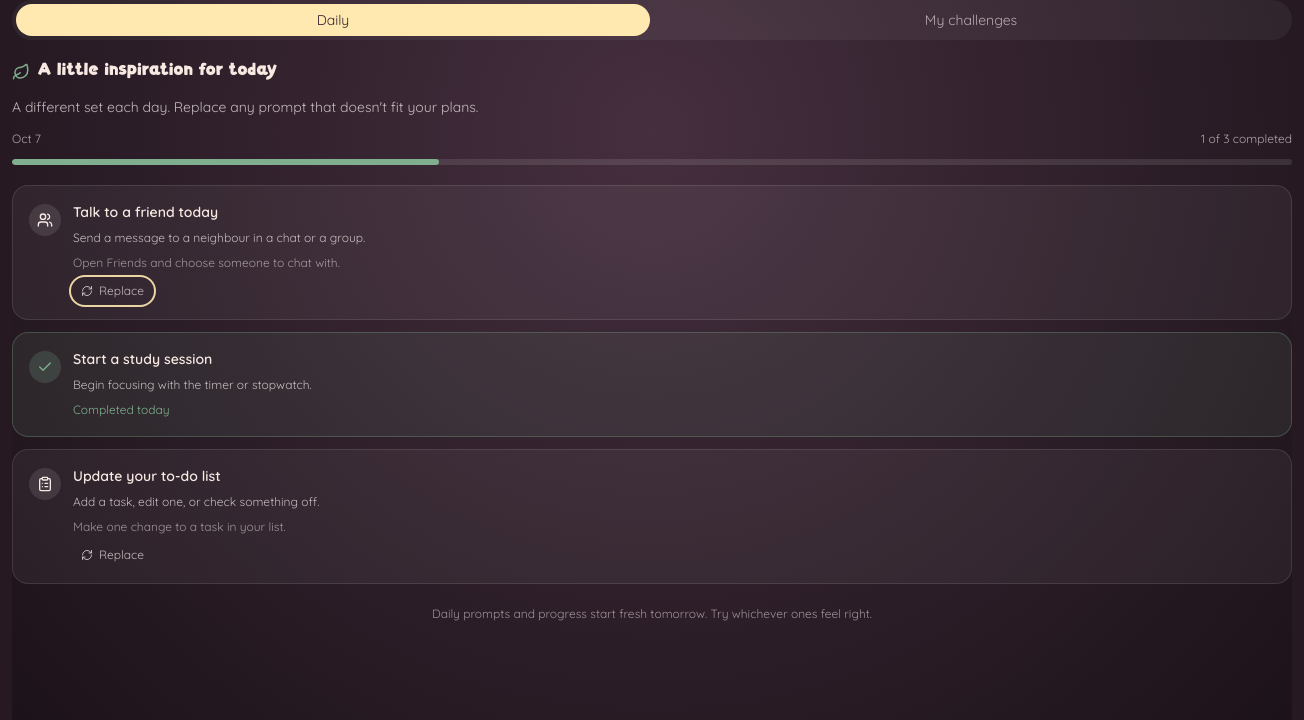
Test: replaces the selected unwanted daily prompt without touching other progress
Click the button with aria-label "Replace Talk to a friend today" at (113, 291), box [73, 279, 152, 303]
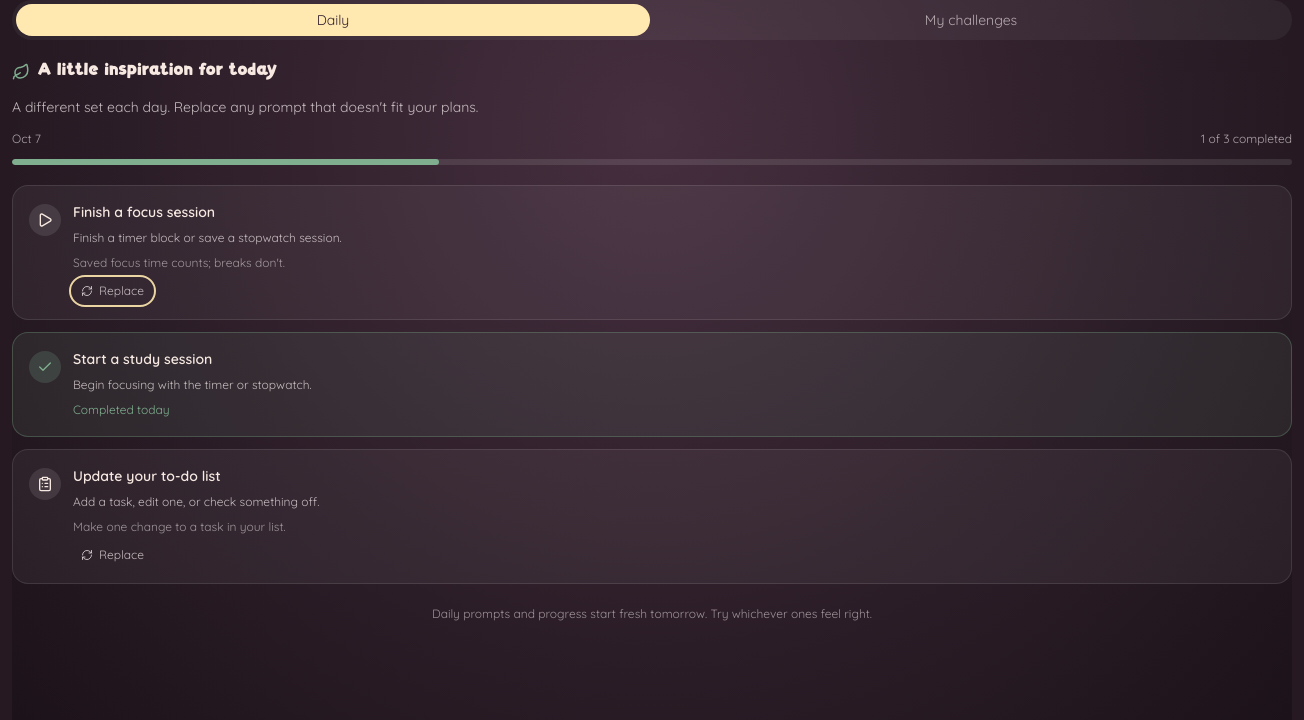
Expected: the heading "Start a study session" is shown, [73, 350, 212, 368]
Expected: the heading "Talk to a friend today" is gone
